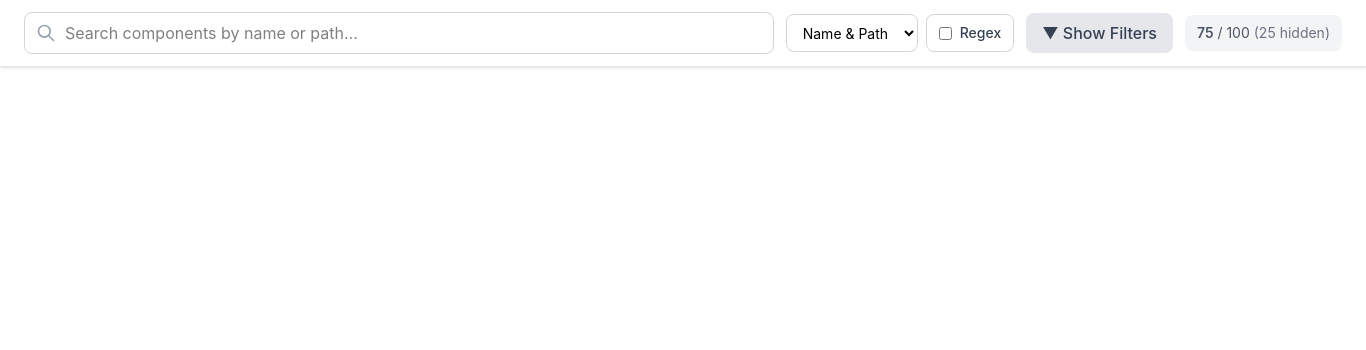
Scenario: SearchAndFilter › フィルターの展開/折りたたみ › Show Filtersボタンをクリックするとフィルターが表示される
Step 1. Click the button "▼ Show Filters" → (1100, 33), box [1026,13,1173,53]
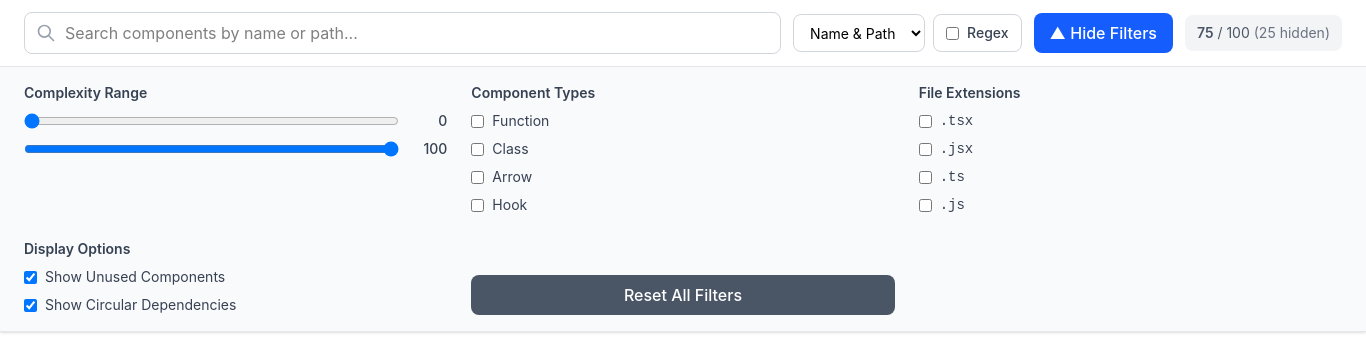
Expected: the text "Complexity Range" is shown, [24,84,147,101]
Expected: the text "Component Types" is shown, [471,84,595,101]
Expected: the text "File Extensions" is shown, [919,84,1020,101]
